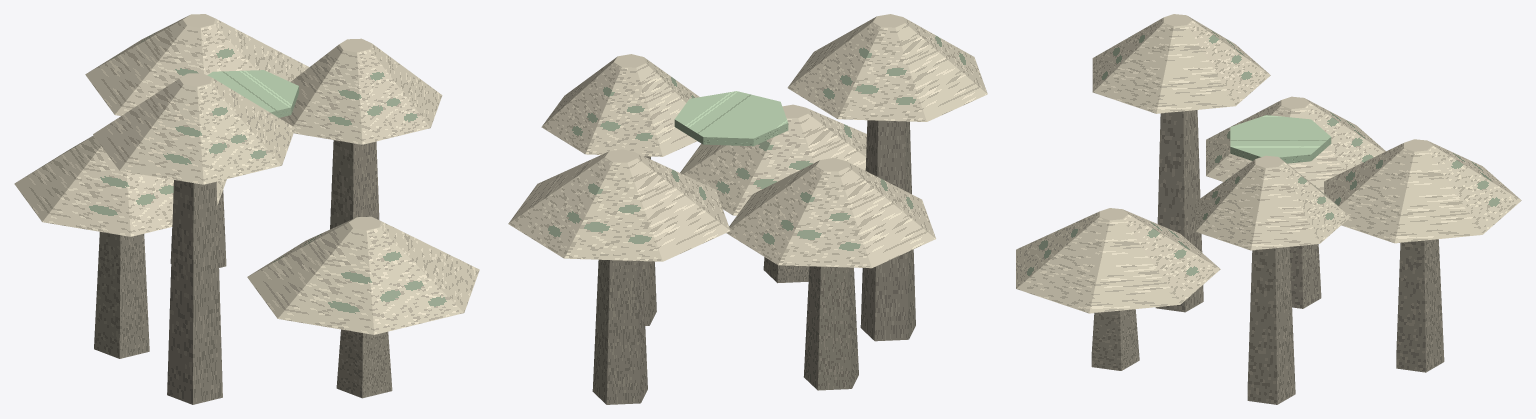
File: mushrooms.glb
3 renders of one model, left to right at view 1: azimuth 30°, elevation 25°; view 2: azimuth 150°, elevation 25°; view 3: azimuth 270°, elevation 25°, orthographic. The views are drawn at different scales.
Visible parts, largest first — view 1: mushrooms, glow-gills; view 2: mushrooms, glow-gills; view 3: mushrooms, glow-gills.
Boxes of the visible parts, x1=… form: mushrooms: x1=14, y1=14, x2=479, y2=404; glow-gills: x1=207, y1=70, x2=298, y2=117; mushrooms: x1=508, y1=14, x2=987, y2=404; glow-gills: x1=674, y1=91, x2=788, y2=146; mushrooms: x1=1016, y1=14, x2=1521, y2=404; glow-gills: x1=1230, y1=115, x2=1331, y2=163.
Bounding box in the file's own units: 0.531 × 0.4091 × 0.6661.
1 material, 1 textured.
